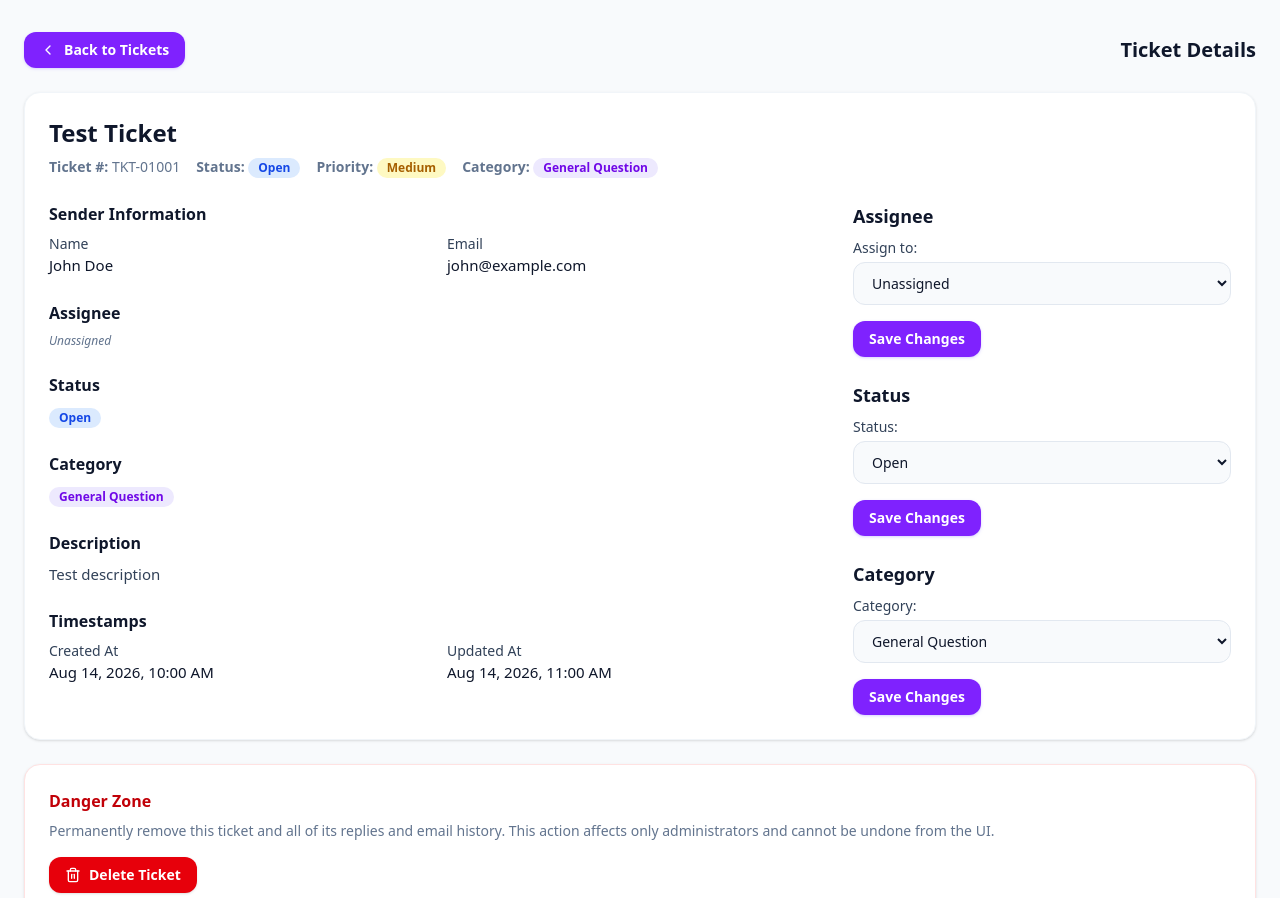
Scenario: TicketDetailsPage › allows admin to assign ticket to agent
Check: the heading "Test Ticket" is shown, box [49,116,177,149]
Note: Select agent from dropdown
Select "Agent Two (agent2@example.com)" in the dropdown with test id "assign-to-select" at point(1042, 284), box [853,262,1231,305]
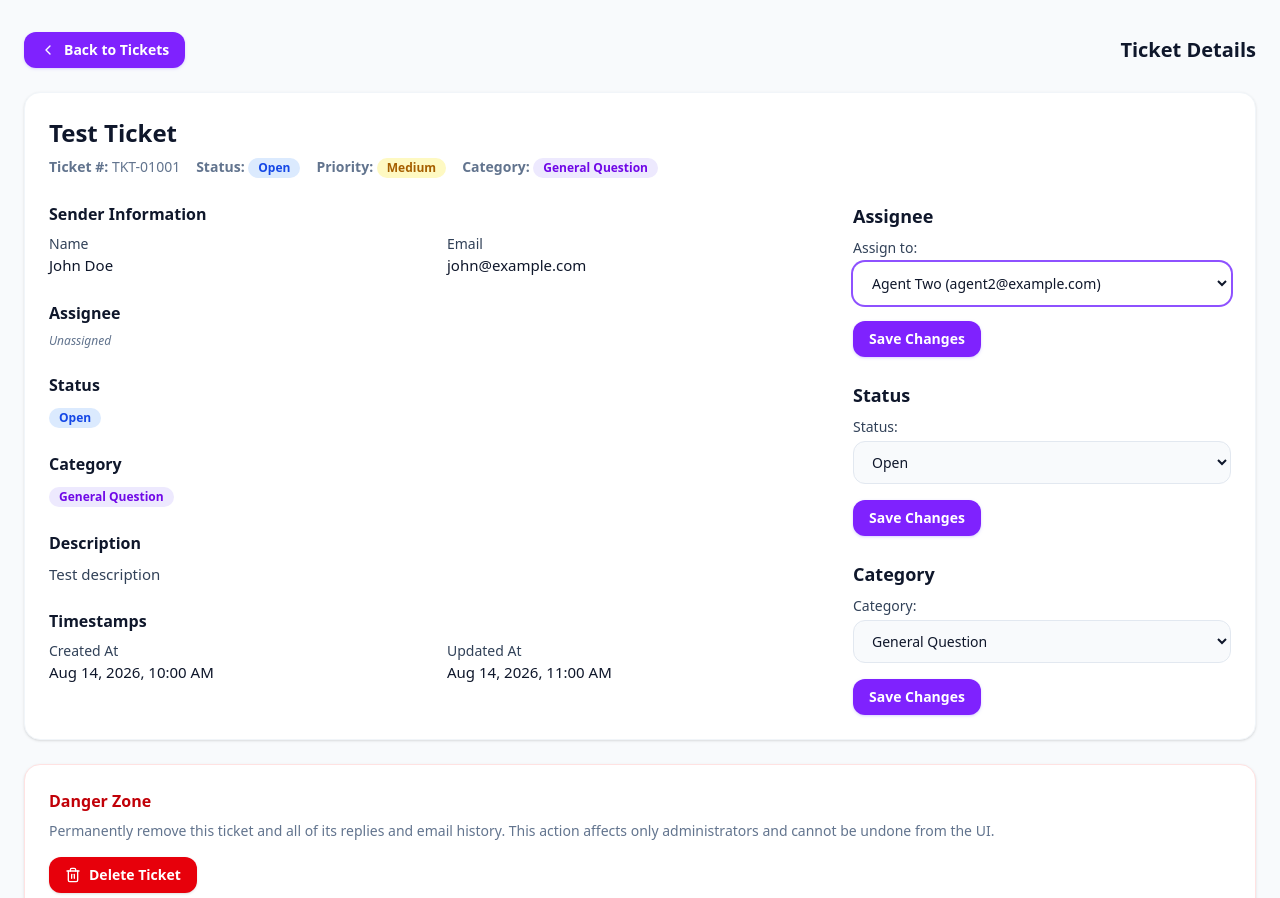
Note: Click save changes button
Click the button "Save Changes" below "Assign to:".
click(917, 339)  # box [853,321,981,357]
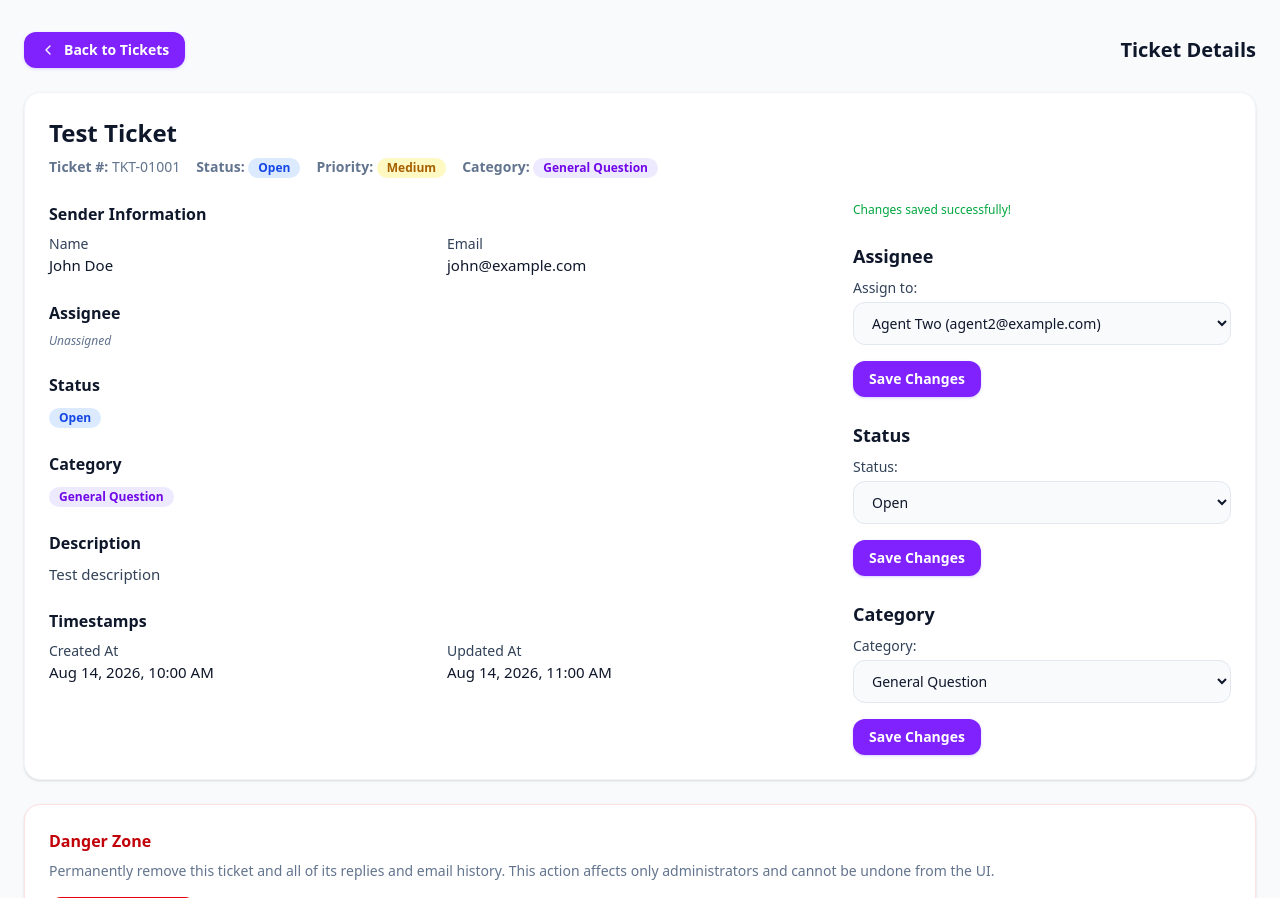
Check: the text "Changes saved successfully!" is shown, box [853,201,1011,218]
